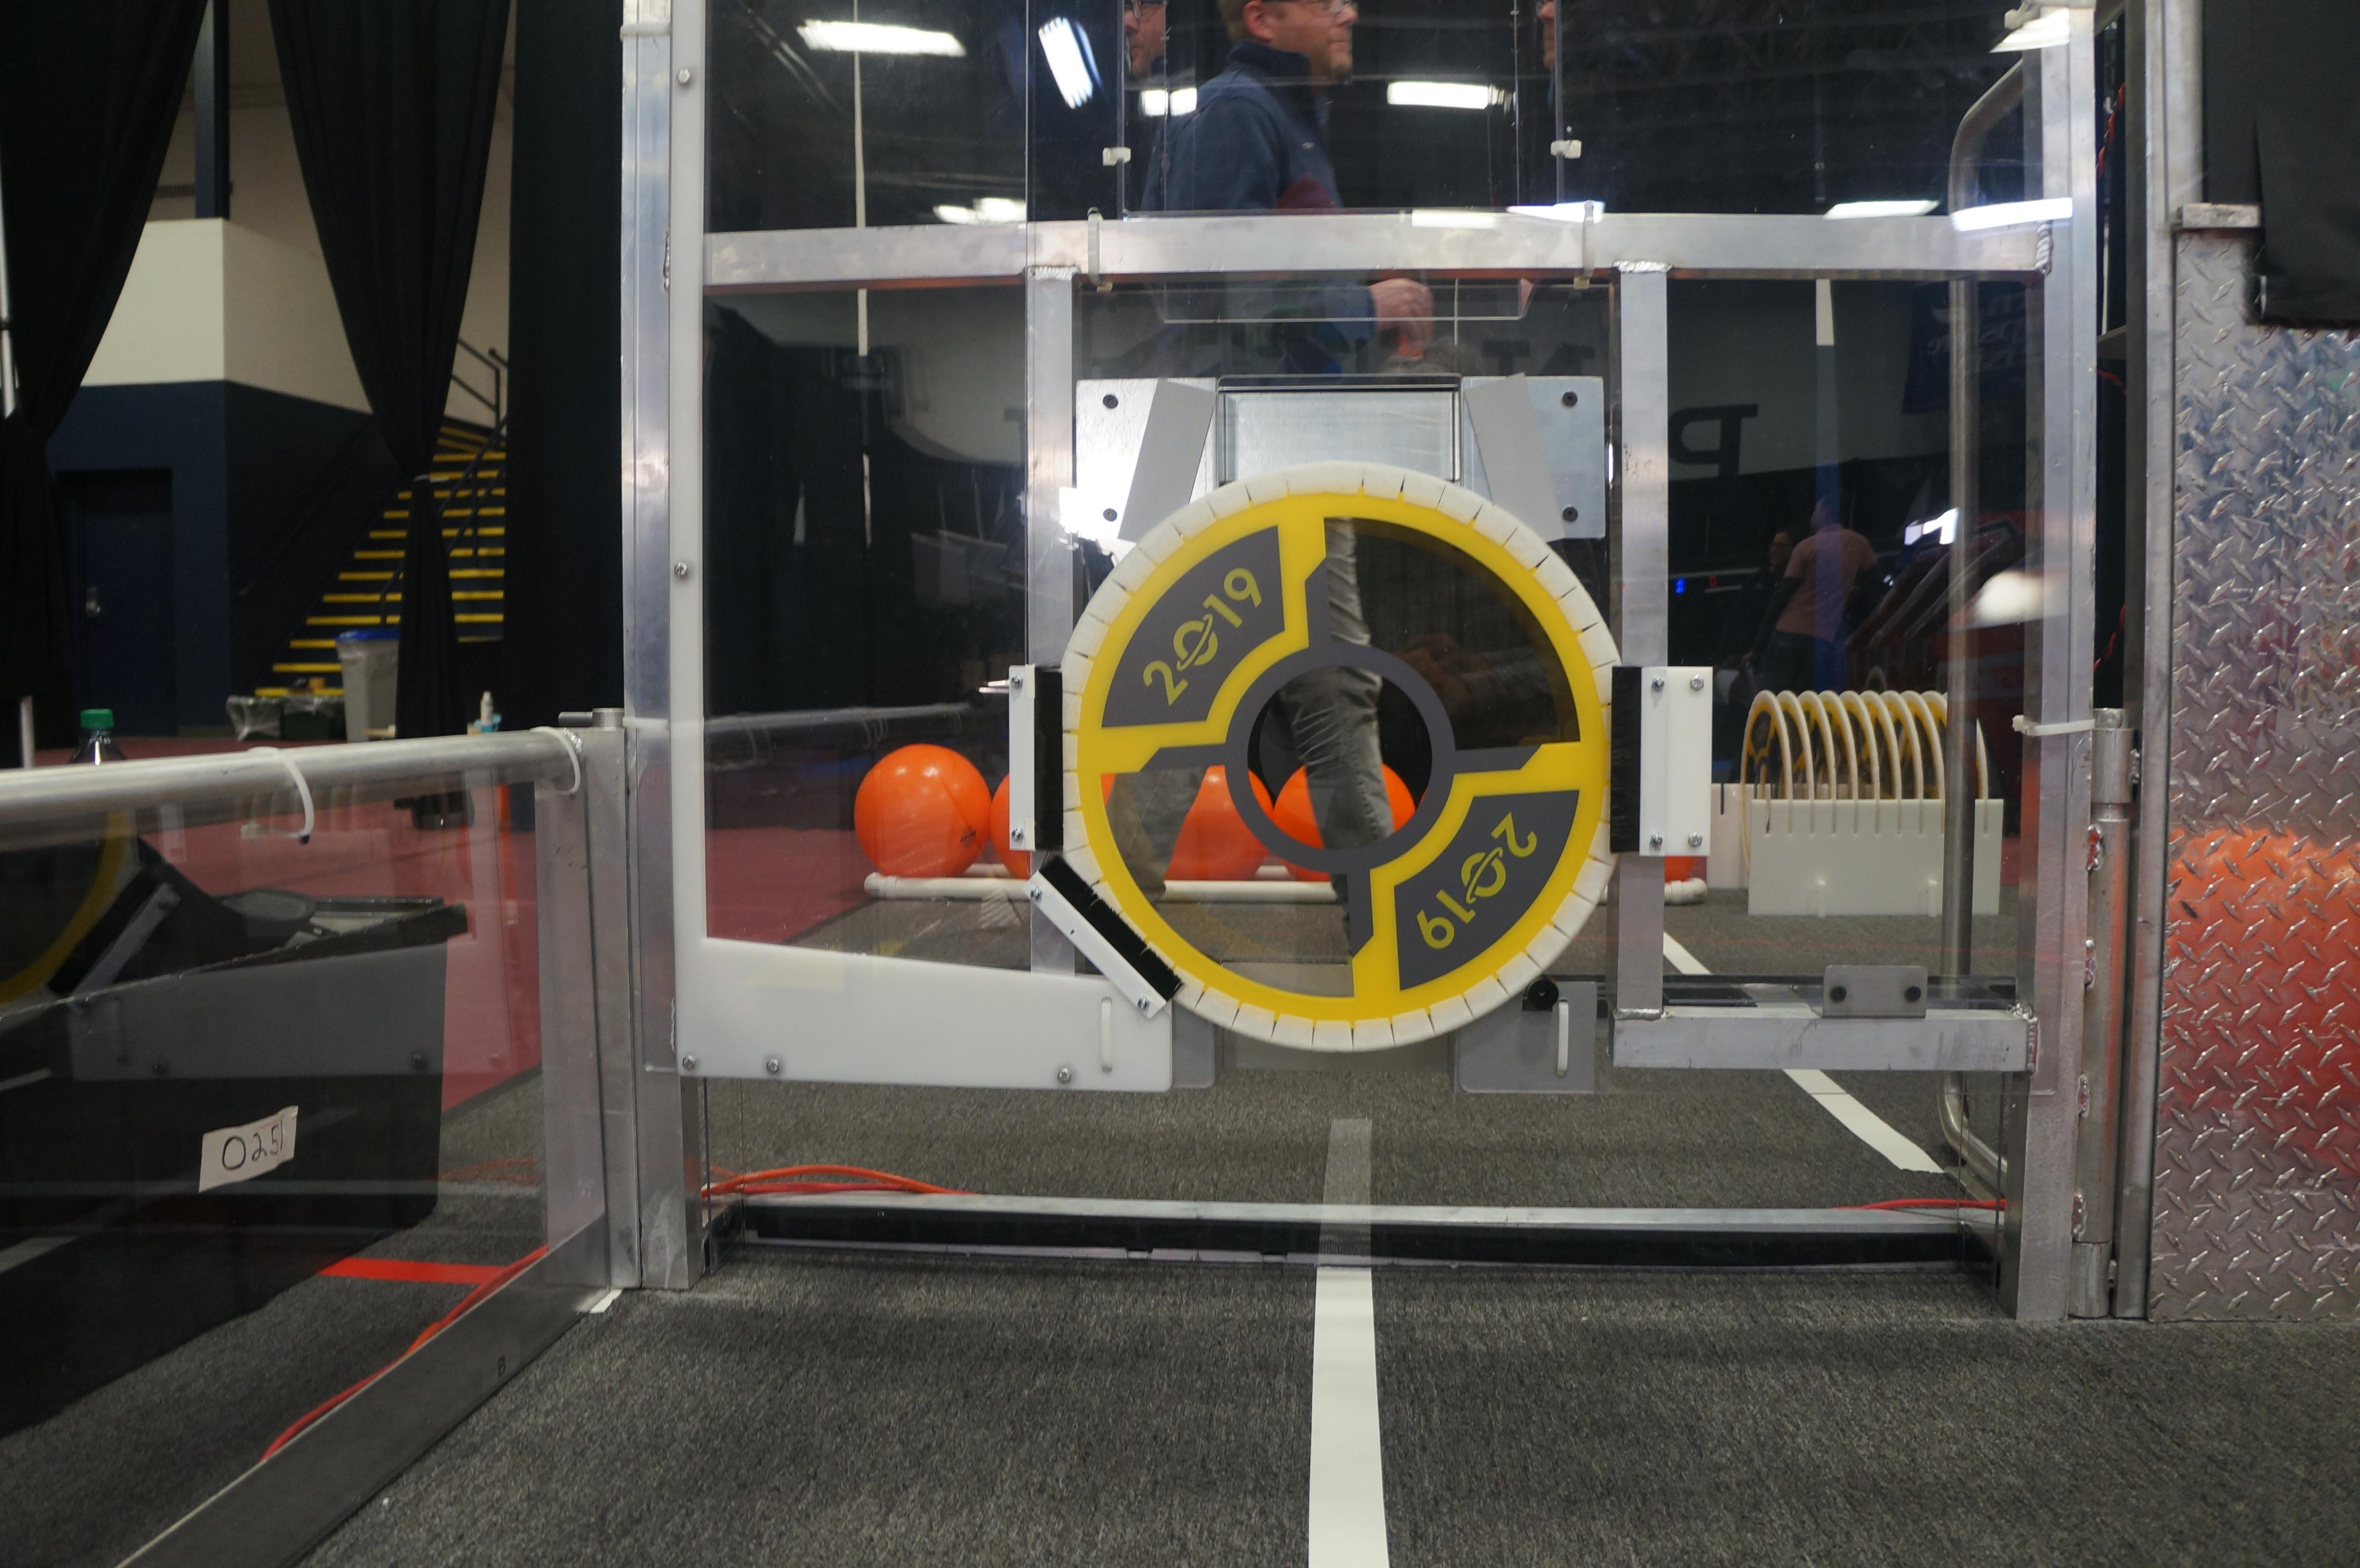Ball: (852, 742, 997, 877)
Hatch: (1037, 453, 1650, 1055), (1739, 689, 1797, 894)
Tape: (1454, 373, 1574, 546), (1120, 380, 1218, 542)
